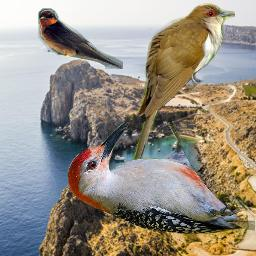Cuckoo: (131, 2, 235, 177)
Swallow: (38, 8, 123, 69)
Woodpecker: (68, 122, 255, 235)
